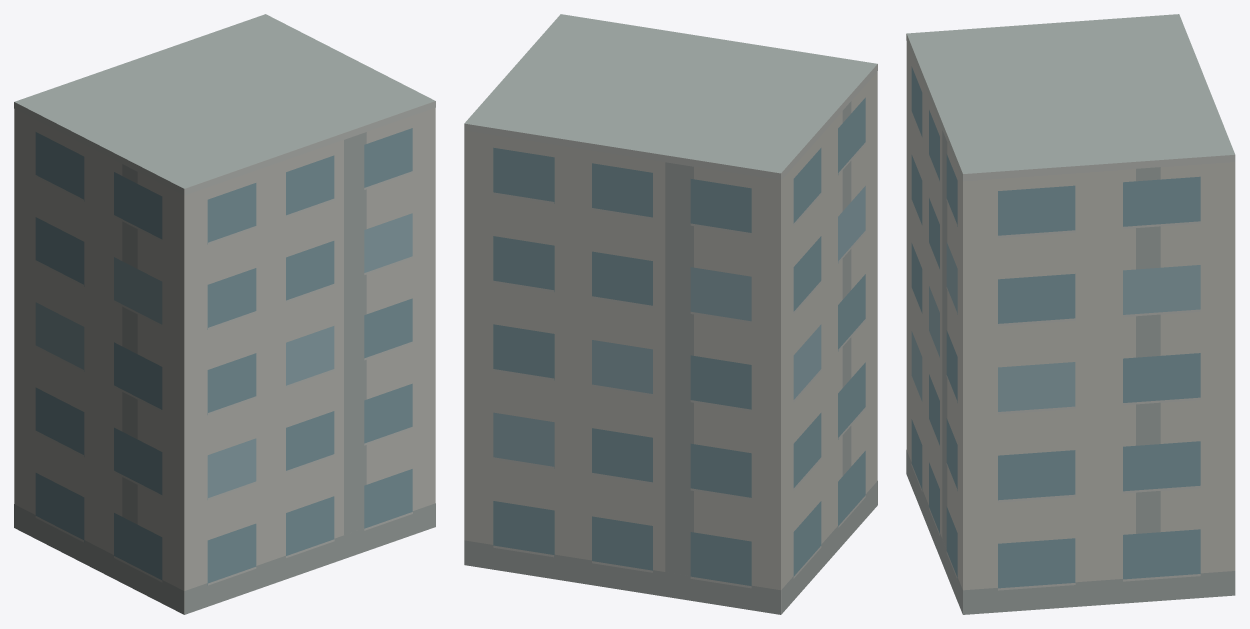
The model's file is residential-cc4dc752-a763-4428-b437-6222b96a73b8.glb.
The picture shows the model from 3 angles, left to right: view 1: azimuth 30°, elevation 25°; view 2: azimuth 150°, elevation 25°; view 3: azimuth 270°, elevation 25°; orthographic projection. The views are drawn at different scales.
Parts seen in each view (by area): view 1: residential-cc4dc752-a763-4428-b437-6222b96a73b8.tmp; view 2: residential-cc4dc752-a763-4428-b437-6222b96a73b8.tmp; view 3: residential-cc4dc752-a763-4428-b437-6222b96a73b8.tmp.
Part boxes in pixels (x1,y1,x2,y2): residential-cc4dc752-a763-4428-b437-6222b96a73b8.tmp: [14, 14, 435, 614]; residential-cc4dc752-a763-4428-b437-6222b96a73b8.tmp: [464, 14, 877, 614]; residential-cc4dc752-a763-4428-b437-6222b96a73b8.tmp: [906, 14, 1235, 614].
Bounding box in the file's own units: 11.89 × 15.25 × 10.32.
